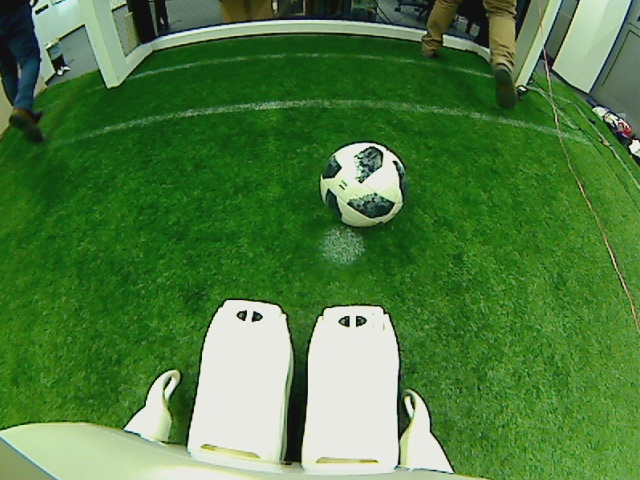ball: (318, 139, 409, 229)
